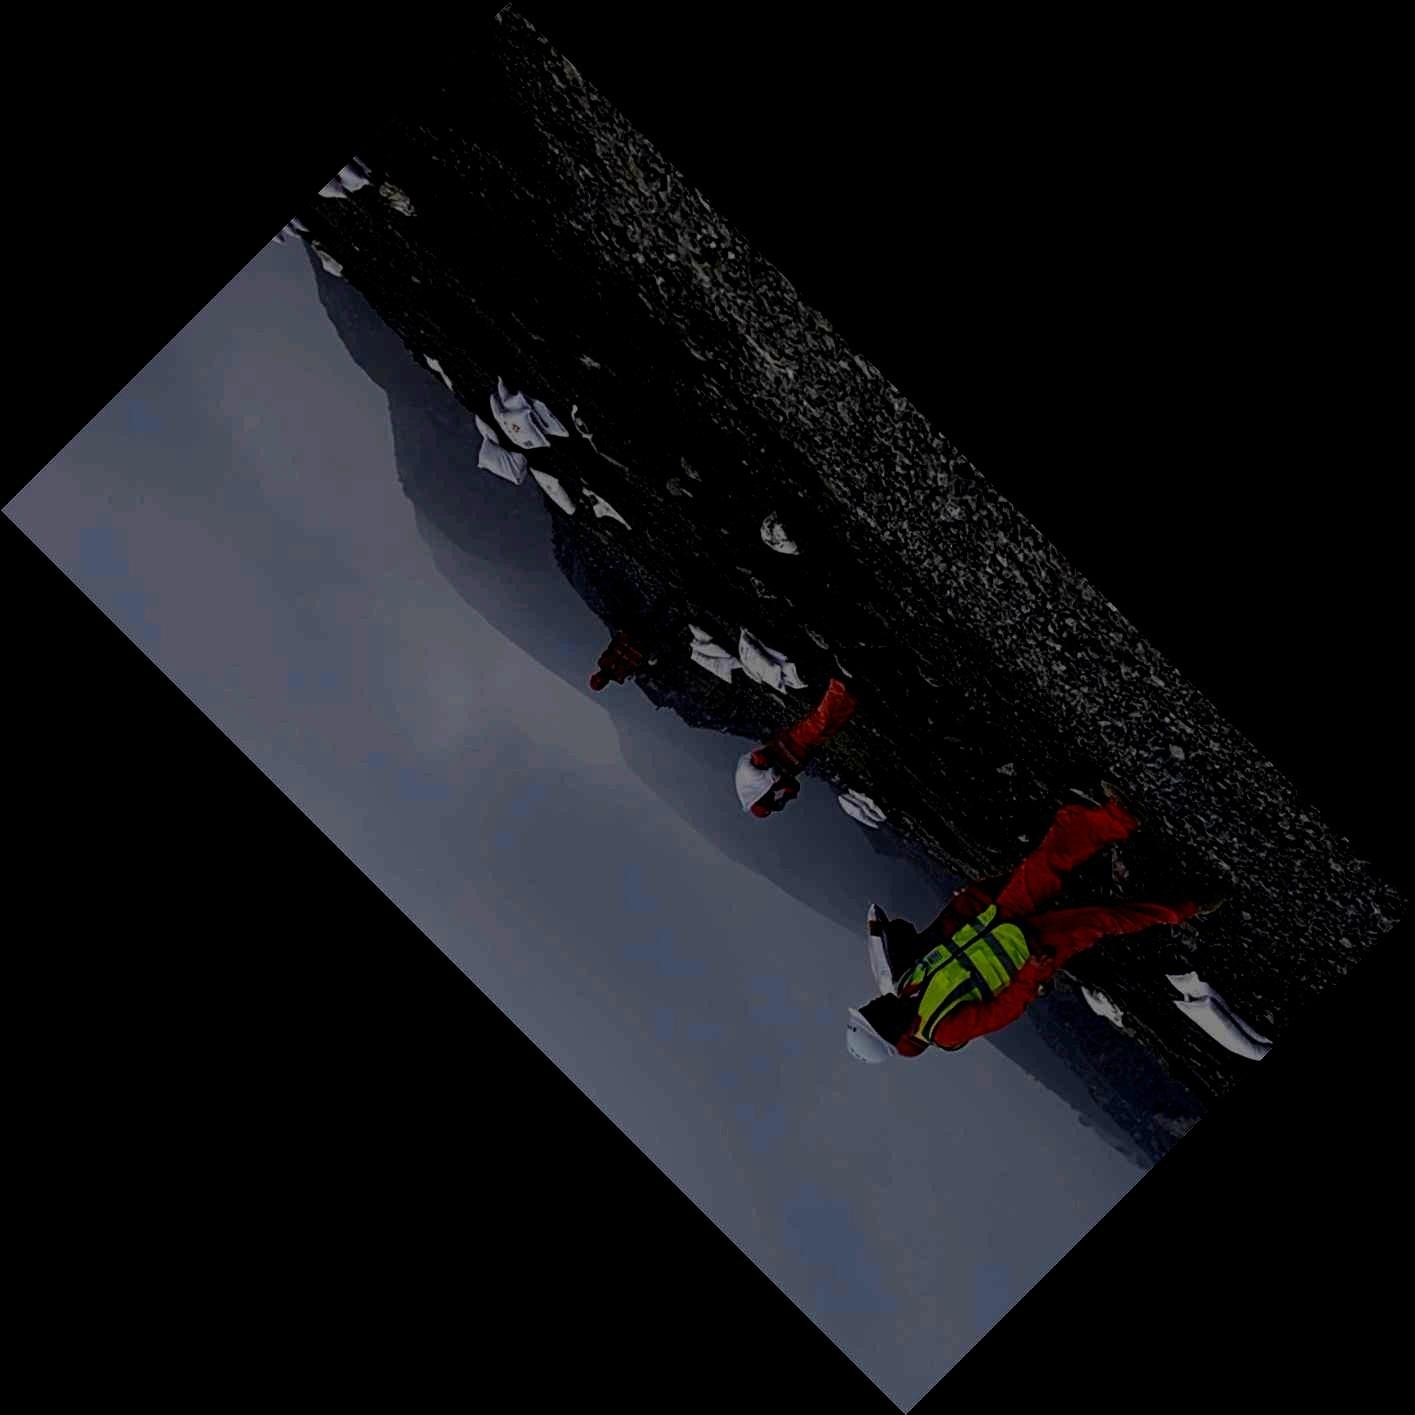helmet: (845, 993, 910, 1065), (752, 790, 776, 819), (590, 670, 610, 692)
